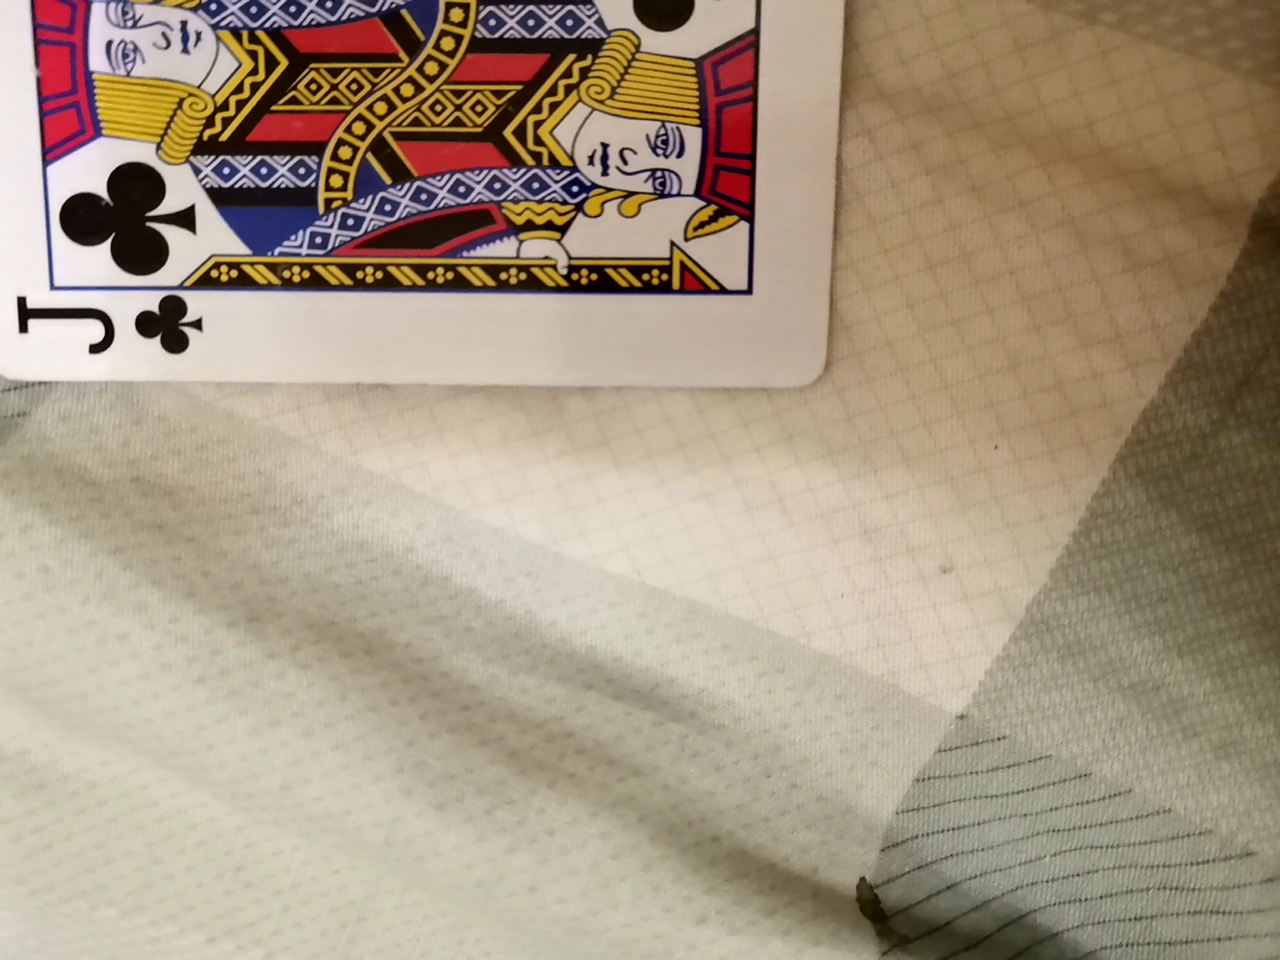mh j: (5, 1, 847, 403)
